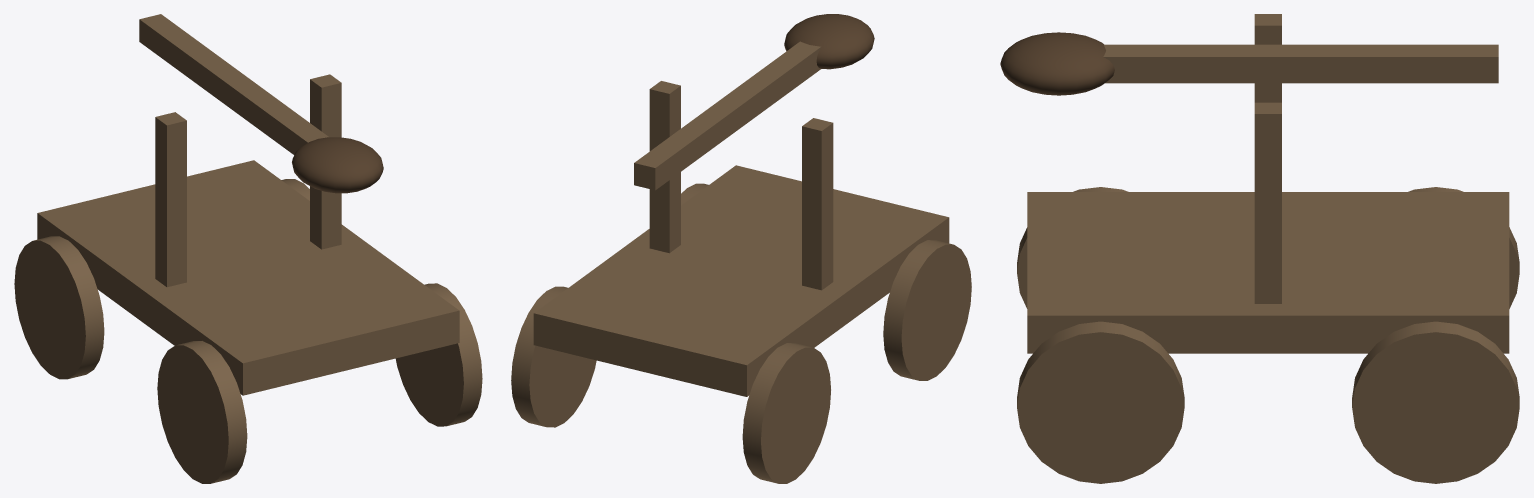
Rendered from mangonel.glb.
3 renders of one model, left to right at view 1: azimuth 30°, elevation 25°; view 2: azimuth 150°, elevation 25°; view 3: azimuth 270°, elevation 25°, orthographic. The views are drawn at different scales.
Visible parts, largest first — view 1: Vehicle, beam; view 2: Vehicle, beam; view 3: Vehicle, beam.
Boxes of the visible parts, bbox=[...] form: Vehicle: bbox=[14, 74, 482, 483]; beam: bbox=[139, 14, 383, 193]; Vehicle: bbox=[511, 81, 971, 483]; beam: bbox=[634, 14, 874, 190]; Vehicle: bbox=[1017, 14, 1519, 483]; beam: bbox=[1000, 32, 1498, 95].
Size of the model in its own units: 1.64 by 1.95 by 2.48.
